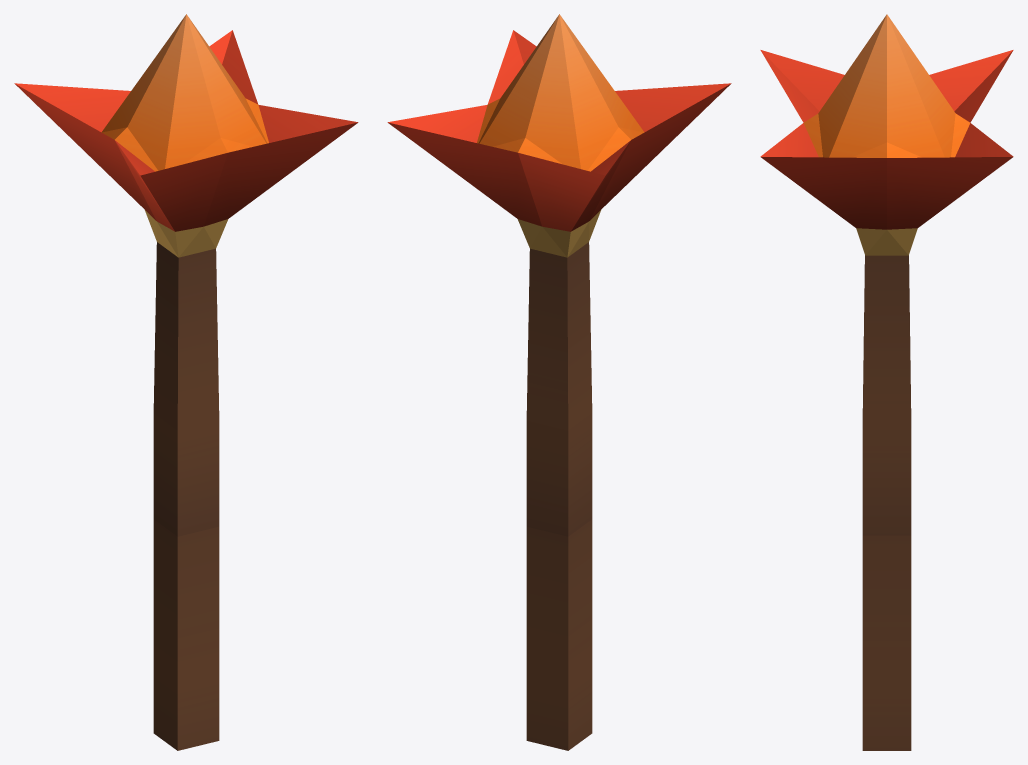
File: FireWand.fbx
3 views of the same model, side by side, from view 1: azimuth 30°, elevation 25°; view 2: azimuth 150°, elevation 25°; view 3: azimuth 270°, elevation 25° (orthographic).
Parts seen in each view (by area): view 1: FireWand; view 2: FireWand; view 3: FireWand.
Boxes of the visible parts, bbox=[...] form: FireWand: bbox=[14, 14, 358, 750]; FireWand: bbox=[387, 14, 731, 750]; FireWand: bbox=[760, 14, 1013, 750].
Size of the model in its own units: 0.1383 by 0.1383 by 0.4374.
